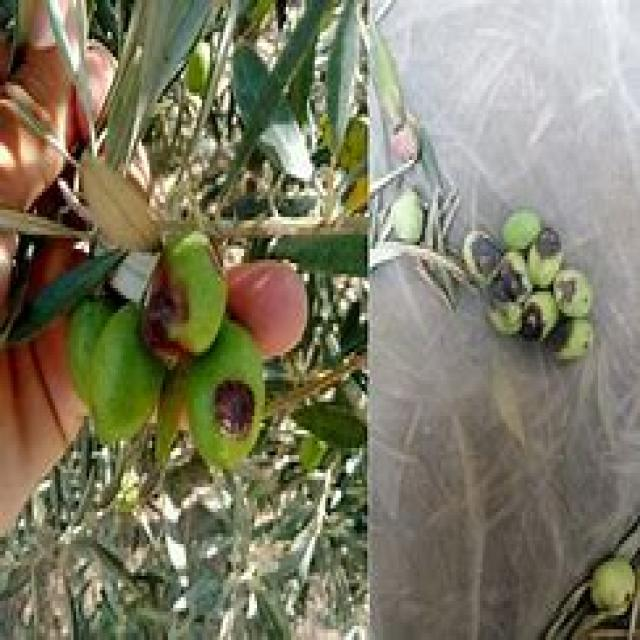Olive Fruit Fly: (462, 210, 590, 359), (186, 320, 262, 466), (144, 231, 223, 356)
